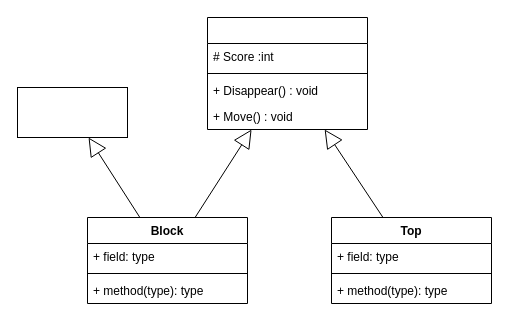
The diagram is 509 pixels wide and 324 high, and some of its shapes have lost their labels. Each missing label, with the box of its shape:
PuzzleObject: (206, 16, 368, 130)
«interface» DragObject: (16, 86, 128, 138)
